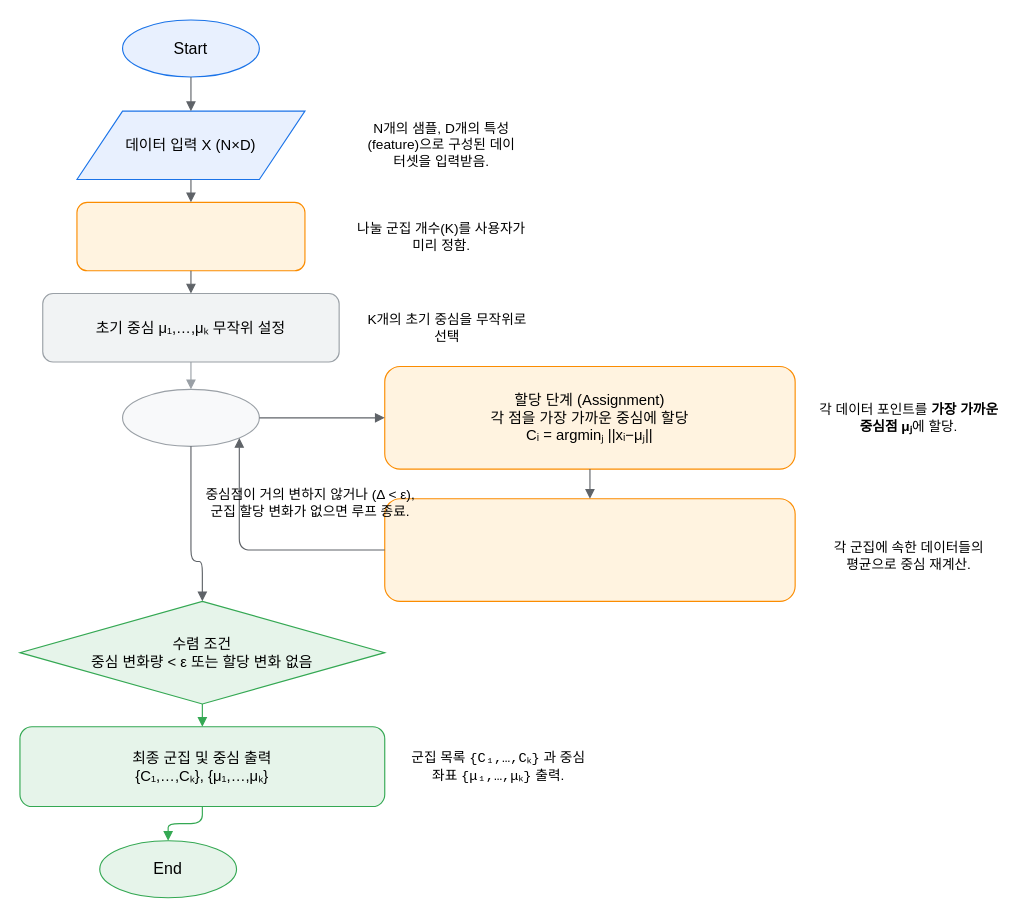
Image size: 1020x918. Some labels were removed from this diagram. The centre of each missing label's shape, as x and y in pixels:
"갱신 단계 (Update) 각 군집의 평균으로 중심 재계산 μⱼ = 평균(xᵢ ∈ Cⱼ)" goes at pixel 589 549.
"군집 개수 K 설정" goes at pixel 190 236.
"반복 시작" goes at pixel 190 417.
